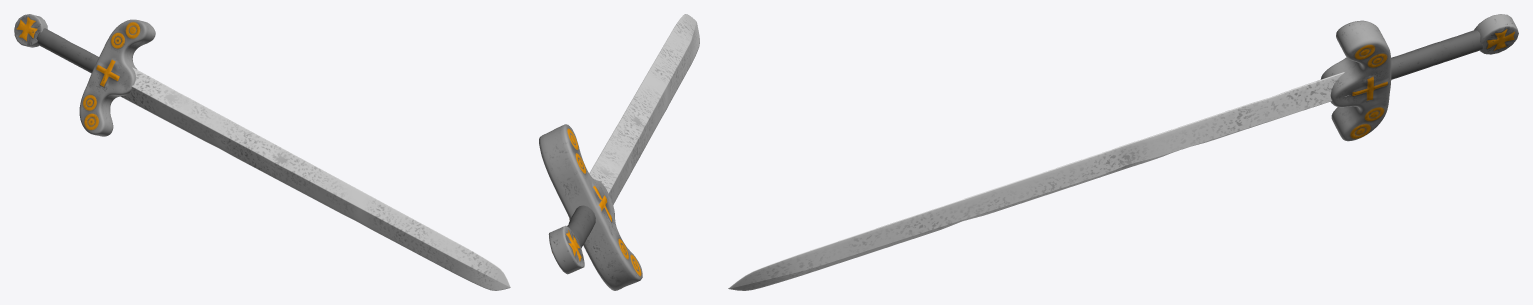
File: sword.glb
3 renders of one model, left to right at view 1: azimuth 30°, elevation 25°; view 2: azimuth 150°, elevation 25°; view 3: azimuth 270°, elevation 25°, orthographic. The views are drawn at different scales.
Parts seen in each view (by area): view 1: Object_15; view 2: Object_15; view 3: Object_15.
Part boxes in pixels (x1,y1,x2,y2): Object_15: (14,14,510,290); Object_15: (539,14,699,290); Object_15: (728,14,1518,290).
Bounding box in the file's own units: 52.71 × 33.4 × 130.
Materials: 1 (1 with a texture image).
